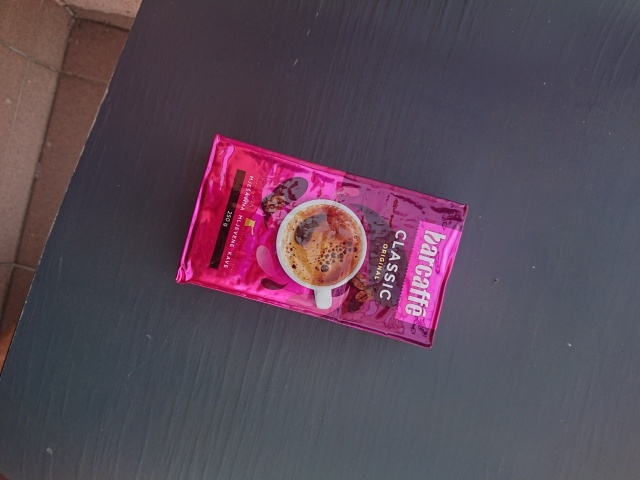Barcaffe Classic Original 225g: (173, 128, 473, 352)
